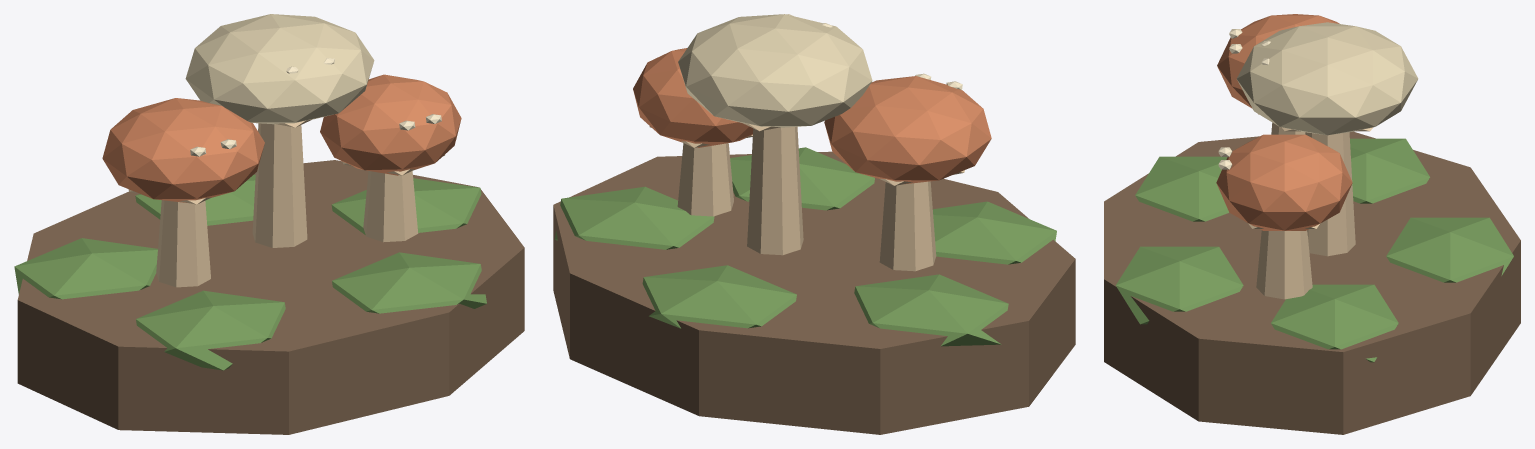
Rendered from mdl_env_mushroom_cluster.glb.
3 views of the same model, side by side, from view 1: azimuth 30°, elevation 25°; view 2: azimuth 150°, elevation 25°; view 3: azimuth 270°, elevation 25° (orthographic). The views are drawn at different scales.
Visible parts, largest first — view 1: Mushroom soil hummock, Mushroom cap.001, Mushroom cap, Mushroom cap.002, Moss cushion.018, Moss cushion.019, Moss cushion.017, Mushroom stem.001, Mushroom stem, Moss cushion.015, Mushroom stem.002, Moss cushion.016; view 2: Mushroom soil hummock, Mushroom cap.001, Mushroom cap, Moss cushion.017, Moss cushion.016, Moss cushion.015, Mushroom stem.001, Moss cushion.018, Mushroom cap.002, Mushroom stem, Moss cushion.019, Mushroom stem.002; view 3: Mushroom soil hummock, Mushroom cap.001, Mushroom cap.002, Moss cushion.019, Moss cushion.016, Moss cushion.015, Moss cushion.018, Moss cushion.017, Mushroom stem.002, Mushroom stem.001, Mushroom cap.
Boxes of the visible parts, x1,y1,x2,y2 form: Mushroom soil hummock: [17, 160, 524, 434]; Mushroom cap.001: [185, 14, 374, 124]; Mushroom cap: [102, 98, 264, 202]; Mushroom cap.002: [320, 74, 461, 175]; Moss cushion.018: [136, 290, 285, 370]; Moss cushion.019: [332, 252, 486, 313]; Moss cushion.017: [14, 238, 157, 299]; Mushroom stem.001: [252, 123, 307, 247]; Mushroom stem: [156, 200, 210, 287]; Moss cushion.015: [331, 178, 481, 234]; Mushroom stem.002: [363, 171, 418, 242]; Moss cushion.016: [135, 174, 255, 225]; Mushroom soil hummock: [553, 151, 1075, 434]; Mushroom cap.001: [678, 14, 872, 127]; Mushroom cap: [824, 76, 991, 184]; Moss cushion.017: [854, 274, 1008, 346]; Moss cushion.016: [642, 265, 796, 328]; Moss cushion.015: [554, 186, 714, 249]; Mushroom stem.001: [747, 126, 803, 255]; Moss cushion.018: [932, 201, 1056, 264]; Mushroom cap.002: [633, 48, 753, 147]; Mushroom stem: [879, 181, 936, 271]; Moss cushion.019: [730, 147, 874, 210]; Mushroom stem.002: [677, 143, 733, 216]; Mushroom soil hummock: [1104, 131, 1520, 434]; Mushroom cap.001: [1236, 22, 1418, 135]; Mushroom cap.002: [1216, 134, 1352, 230]; Moss cushion.019: [1116, 246, 1243, 324]; Moss cushion.016: [1386, 217, 1513, 282]; Moss cushion.015: [1271, 284, 1398, 362]; Moss cushion.018: [1135, 156, 1228, 221]; Moss cushion.017: [1350, 138, 1429, 203]; Mushroom stem.002: [1256, 230, 1312, 299]; Mushroom stem.001: [1305, 132, 1355, 256]; Mushroom cap: [1217, 14, 1339, 108].
Bounding box in the file's own units: 1.97 × 1.22 × 1.55.
